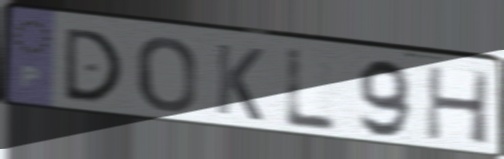9: (355, 57, 415, 140)
D: (62, 25, 126, 104)
H: (423, 63, 494, 148)
K: (212, 40, 266, 125)
L: (282, 46, 342, 134)
O: (133, 34, 199, 115)
